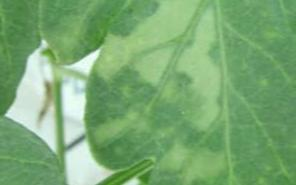Tomato leaf bacterial spot: (27, 0, 296, 185)
